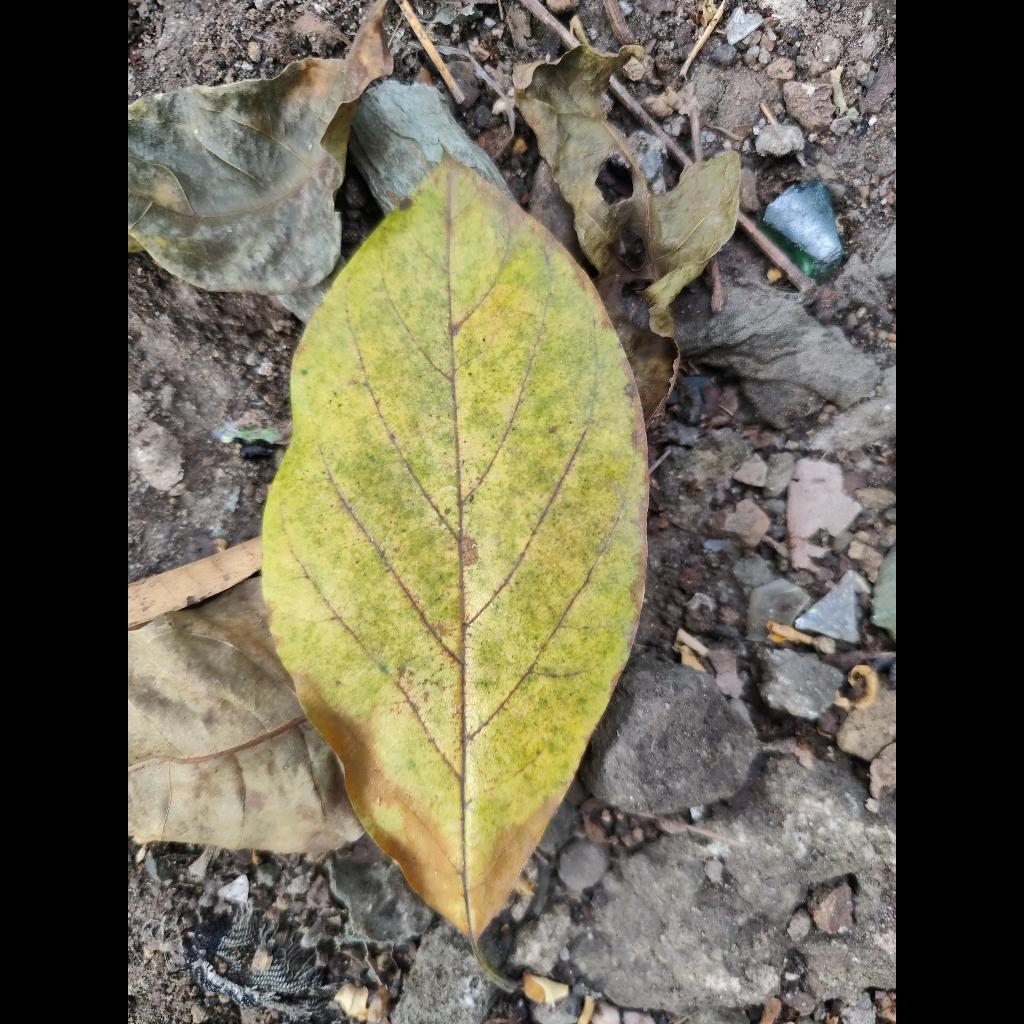deficiencia_nutricional: (262, 156, 647, 941)
